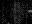person: (26, 9, 31, 13)
